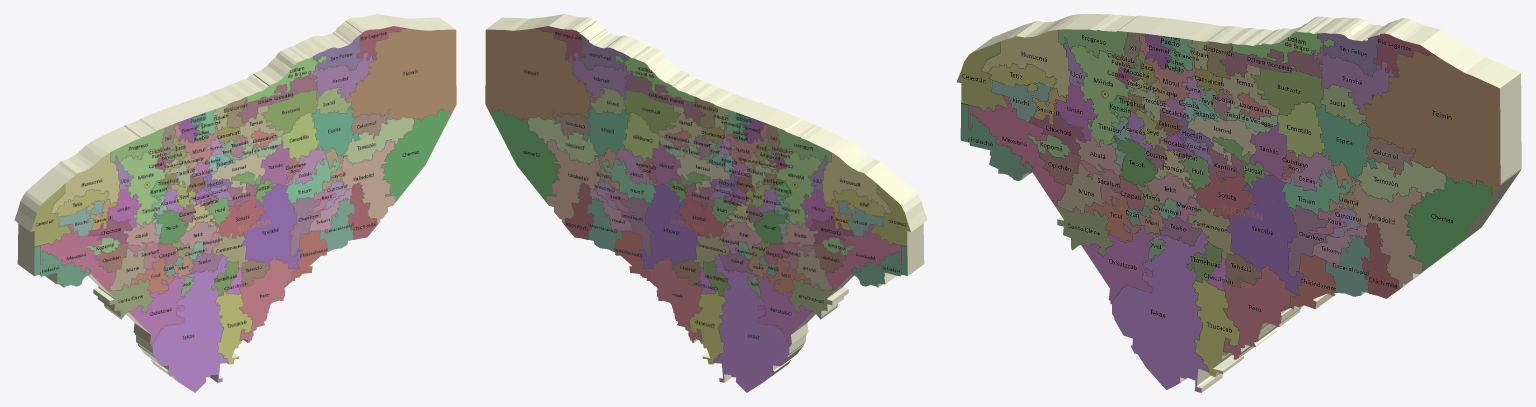
File: yucatan.glb
3 views of the same model, side by side, from view 1: azimuth 30°, elevation 25°; view 2: azimuth 150°, elevation 25°; view 3: azimuth 330°, elevation 25° (orthographic). The views are drawn at different scales.
Parts seen in each view (by area): view 1: Plano; view 2: Plano; view 3: Plano.
Boxes of the visible parts, x1,y1,x2,y2 form: Plano: (14,14,456,392); Plano: (485,14,927,392); Plano: (956,14,1521,392).
Size of the model in its own units: 1.23 by 0.886 by 0.0824.
Materials: 1 (1 with a texture image).
